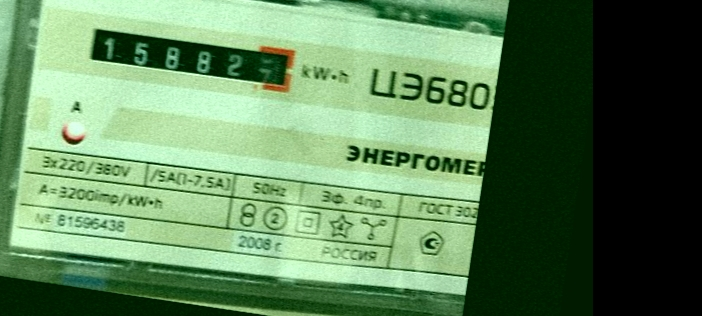1: (100, 35, 118, 62)
2: (225, 50, 245, 78)
5: (131, 39, 150, 66)
7: (256, 65, 272, 83)
8: (193, 47, 213, 74), (162, 44, 182, 70)
screen: (74, 11, 307, 104)
